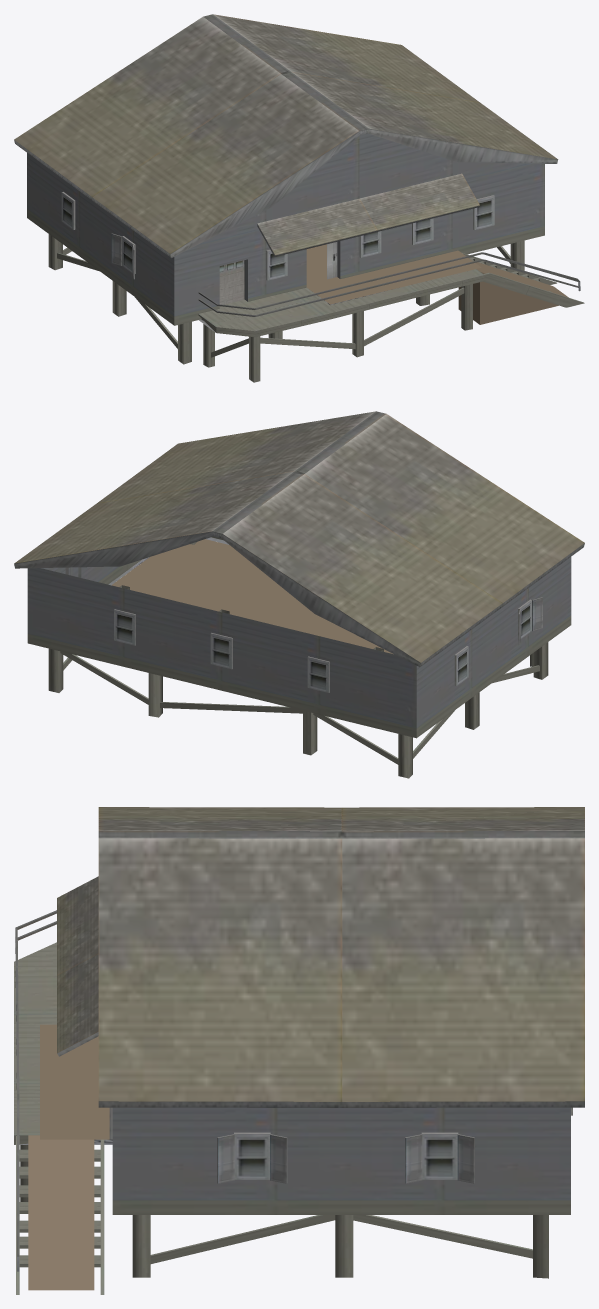
File: rural-wood-1.access-v1.lod1.glb
3 renders of one model, top to bottom at view 1: azimuth 30°, elevation 25°; view 2: azimuth 150°, elevation 25°; view 3: azimuth 270°, elevation 25°, orthographic. The views are drawn at different scales.
Parts seen in each view (by area): view 1: Rural_WoodenBuilding_1_Rural_Housetrim_1_0, Rural_WoodenBuilding_1_Rural_Walltrim_1_0, Walkable floors and stairs; view 2: Rural_WoodenBuilding_1_Rural_Housetrim_1_0, Rural_WoodenBuilding_1_Rural_Walltrim_1_0, Walkable floors and stairs; view 3: Rural_WoodenBuilding_1_Rural_Housetrim_1_0, Rural_WoodenBuilding_1_Rural_Walltrim_1_0, Walkable floors and stairs.
Part boxes in pixels (x1=…): Rural_WoodenBuilding_1_Rural_Housetrim_1_0: x1=14, y1=14, x2=580, y2=332; Rural_WoodenBuilding_1_Rural_Walltrim_1_0: x1=27, y1=133, x2=584, y2=382; Walkable floors and stairs: x1=306, y1=244, x2=568, y2=324; Rural_WoodenBuilding_1_Rural_Housetrim_1_0: x1=14, y1=411, x2=584, y2=692; Rural_WoodenBuilding_1_Rural_Walltrim_1_0: x1=27, y1=536, x2=571, y2=778; Walkable floors and stairs: x1=112, y1=539, x2=393, y2=654; Rural_WoodenBuilding_1_Rural_Housetrim_1_0: x1=14, y1=807, x2=584, y2=1271; Rural_WoodenBuilding_1_Rural_Walltrim_1_0: x1=14, y1=942, x2=570, y2=1294; Walkable floors and stairs: x1=28, y1=1024, x2=109, y2=1290.
Bounding box in the file's own units: 21.07 × 10.44 × 17.27.
3 materials, 2 textured.
